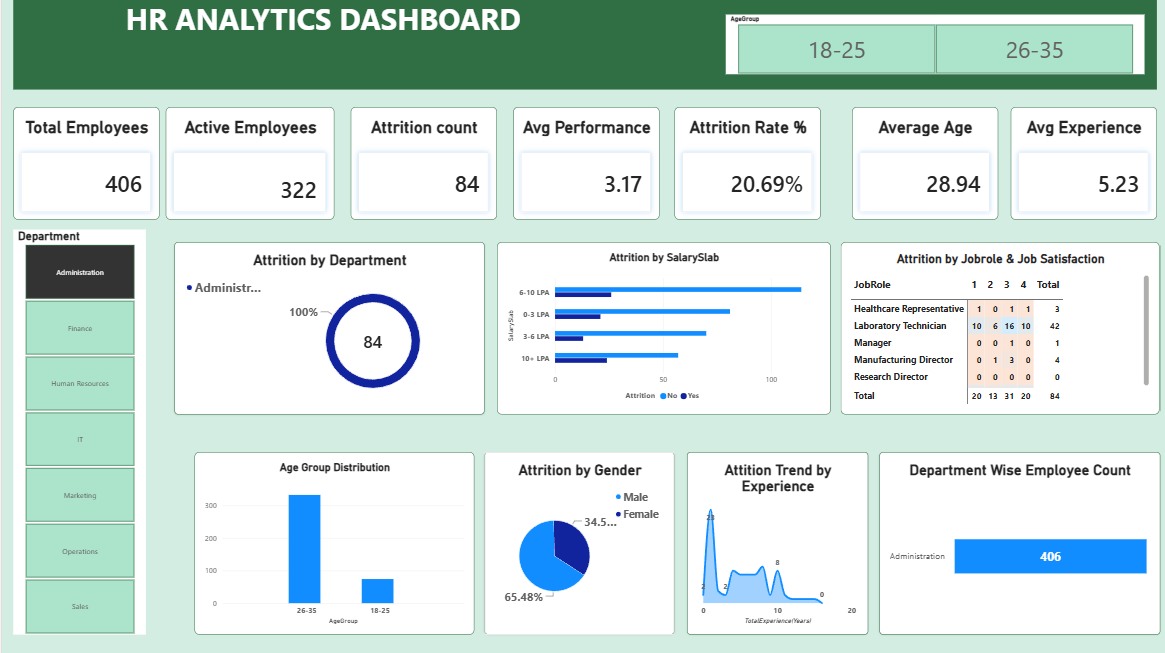

This screenshot's page, from the dashboard's own definition file:
{"tool":"powerbi","page":{"name":"Page 1","canvas":[1920,1080],"ordinal":0},"visuals":[{"type":"textbox","box":[18.5,3,1883.4,150.3],"z":0},{"type":"cardVisual","title":"Total Employees","fields":{"Data":["CountNonNull(HR_Analytics-4.EmpID)"]},"box":[18.5,181.1,240.8,185.2],"z":1000},{"type":"cardVisual","title":"Active Employees","fields":{"Data":["CountNonNull(HR_Analytics-4.EmployeeCount)"]},"box":[269.6,181.1,277.9,185.2],"z":2000},{"type":"cardVisual","title":"Attrition count","fields":{"Data":["Sum(HR_Analytics-4.Attritioncount)"]},"box":[574.3,181.1,240.8,185.2],"z":3000},{"type":"cardVisual","title":"Avg Performance","fields":{"Data":["Avg(HR_Analytics-4.PerformanceRating)"]},"box":[841.9,181.1,240.8,185.2],"z":4000},{"type":"cardVisual","title":"Attrition Rate %","fields":{"Data":["HR_Analytics-4.Attrition Rate %"]},"box":[1107.4,181.1,240.8,185.2],"z":5000},{"type":"cardVisual","title":"Average Age","fields":{"Data":["Avg(HR_Analytics-4.Age)"]},"box":[1399.7,181.1,240.8,185.2],"z":6000},{"type":"cardVisual","title":"Avg Experience","fields":{"Data":["Avg(HR_Analytics-4.YearsatCompany)"]},"box":[1661.1,181.1,240.8,185.2],"z":7000},{"type":"donutChart","title":"Attrition by Department","fields":{"Category":["HR_Analytics-4.Department"],"Y":["Sum(HR_Analytics-4.Attritioncount)"]},"box":[284,403.4,510.5,284],"z":8000},{"type":"clusteredBarChart","title":"Attrition by SalarySlab","fields":{"Category":["HR_Analytics-4.SalarySlab"],"Series":["HR_Analytics-4.Attrition"],"Y":["CountNonNull(HR_Analytics-4.EmpID)"]},"box":[815.1,403.4,549.6,284],"z":9000},{"type":"pivotTable","title":"Attrition by Jobrole & Job Satisfaction","fields":{"Columns":["HR_Analytics-4.JobSatisfaction"],"Rows":["HR_Analytics-4.JobRole"],"Values":["Sum(HR_Analytics-4.Attritioncount)"]},"box":[1381.1,403.4,524.9,284],"z":10000},{"type":"columnChart","title":"Age Group Distribution","fields":{"Category":["HR_Analytics-4.AgeGroup"],"Y":["Sum(HR_Analytics-4.EmployeeCount)"]},"box":[317,749.2,461.1,300.5],"z":11000},{"type":"pieChart","title":"Attrition by Gender","fields":{"Category":["HR_Analytics-4.Gender"],"Y":["Sum(HR_Analytics-4.Attritioncount)"]},"box":[794.5,749.2,312.9,300.5],"z":12000},{"type":"areaChart","title":"Attition Trend by Experience","fields":{"Category":["HR_Analytics-4.TotalExperience(Years)"],"Y2":["Sum(HR_Analytics-4.Attritioncount)"]},"box":[1128,749.2,298.5,300.5],"z":13000},{"type":"funnel","title":"Department Wise Employee Count","fields":{"Category":["HR_Analytics-4.Department"],"Y":["CountNonNull(HR_Analytics-4.EmpID)"]},"box":[1444,749,462,301],"z":14000},{"type":"slicer","fields":{"Values":["HR_Analytics-4.Department"]},"box":[18.5,382.8,218.2,666.9],"z":15000},{"type":"slicer","fields":{"Values":["HR_Analytics-4.AgeGroup"]},"box":[1212.4,28.8,689.5,98.8],"z":15001}]}

Visuals, with their boxes in screenshot pixels (x1, y1, x2, y2), scaled from the page's 1920x1080 canvas onto the 1165x653 screenshot:
textbox: bbox=(11, 2, 1154, 93)
"Total Employees" cardVisual: bbox=(11, 109, 157, 221)
"Active Employees" cardVisual: bbox=(164, 109, 332, 221)
"Attrition count" cardVisual: bbox=(348, 109, 495, 221)
"Avg Performance" cardVisual: bbox=(511, 109, 657, 221)
"Attrition Rate %" cardVisual: bbox=(672, 109, 818, 221)
"Average Age" cardVisual: bbox=(849, 109, 995, 221)
"Avg Experience" cardVisual: bbox=(1008, 109, 1154, 221)
"Attrition by Department" donutChart: bbox=(172, 244, 482, 416)
"Attrition by SalarySlab" clusteredBarChart: bbox=(495, 244, 828, 416)
"Attrition by Jobrole & Job Satisfaction" pivotTable: bbox=(838, 244, 1157, 416)
"Age Group Distribution" columnChart: bbox=(192, 453, 472, 635)
"Attrition by Gender" pieChart: bbox=(482, 453, 672, 635)
"Attition Trend by Experience" areaChart: bbox=(684, 453, 866, 635)
"Department Wise Employee Count" funnel: bbox=(876, 453, 1157, 635)
slicer - HR_Analytics-4.Department: bbox=(11, 231, 144, 635)
slicer - HR_Analytics-4.AgeGroup: bbox=(736, 17, 1154, 77)
